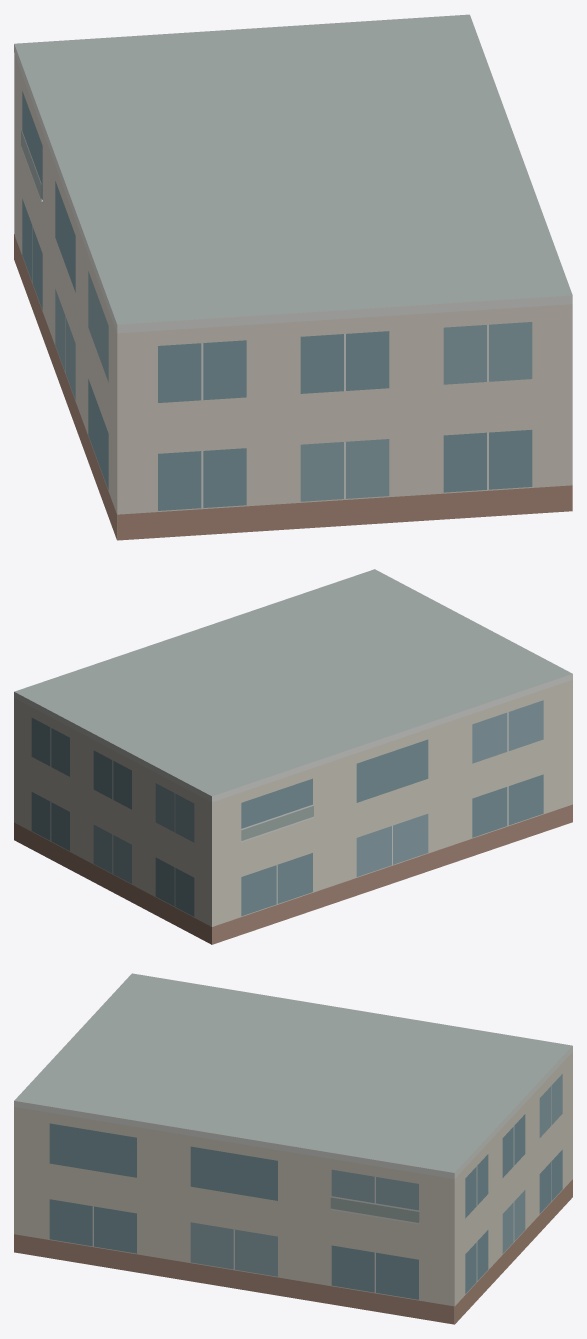
File: survey-upis-32826560.glb
3 views of the same model, one above another, from view 1: azimuth 30°, elevation 25°; view 2: azimuth 150°, elevation 25°; view 3: azimuth 270°, elevation 25° (orthographic). The views are drawn at different scales.
Visible parts, largest first — view 1: survey-upis-32826560.tmp; view 2: survey-upis-32826560.tmp; view 3: survey-upis-32826560.tmp.
Part boxes in pixels (x1,y1,x2,y2): survey-upis-32826560.tmp: (14,14,572,540); survey-upis-32826560.tmp: (14,569,572,944); survey-upis-32826560.tmp: (14,973,572,1324).
Size of the model in its own units: 17.24 by 6.1 by 20.39.
